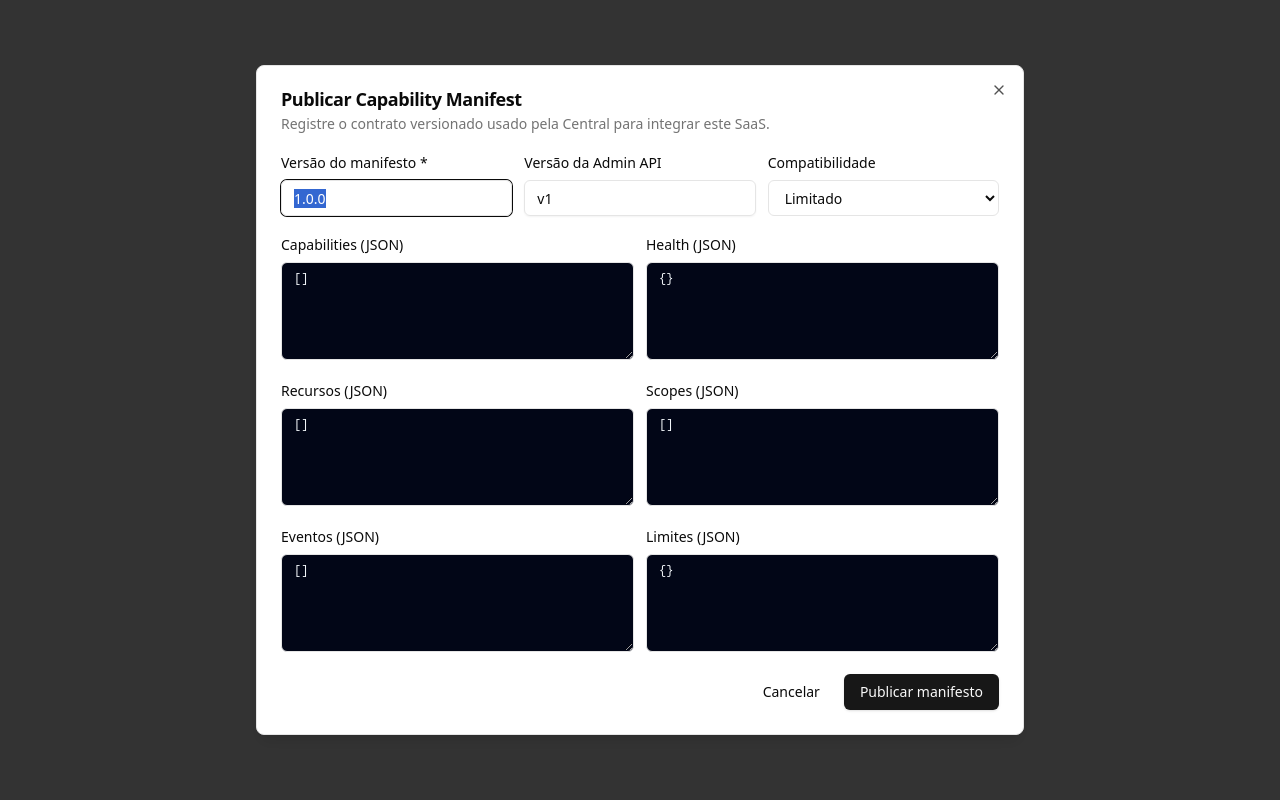
Test: EditManifestDialog › does not submit invalid JSON
This screenshot has width=1280, height=800.
Replace the text in the text box labelled "Capabilities (JSON)" with "[invalid" at point(458, 311), box x1=281 y1=262 x2=634 y2=360
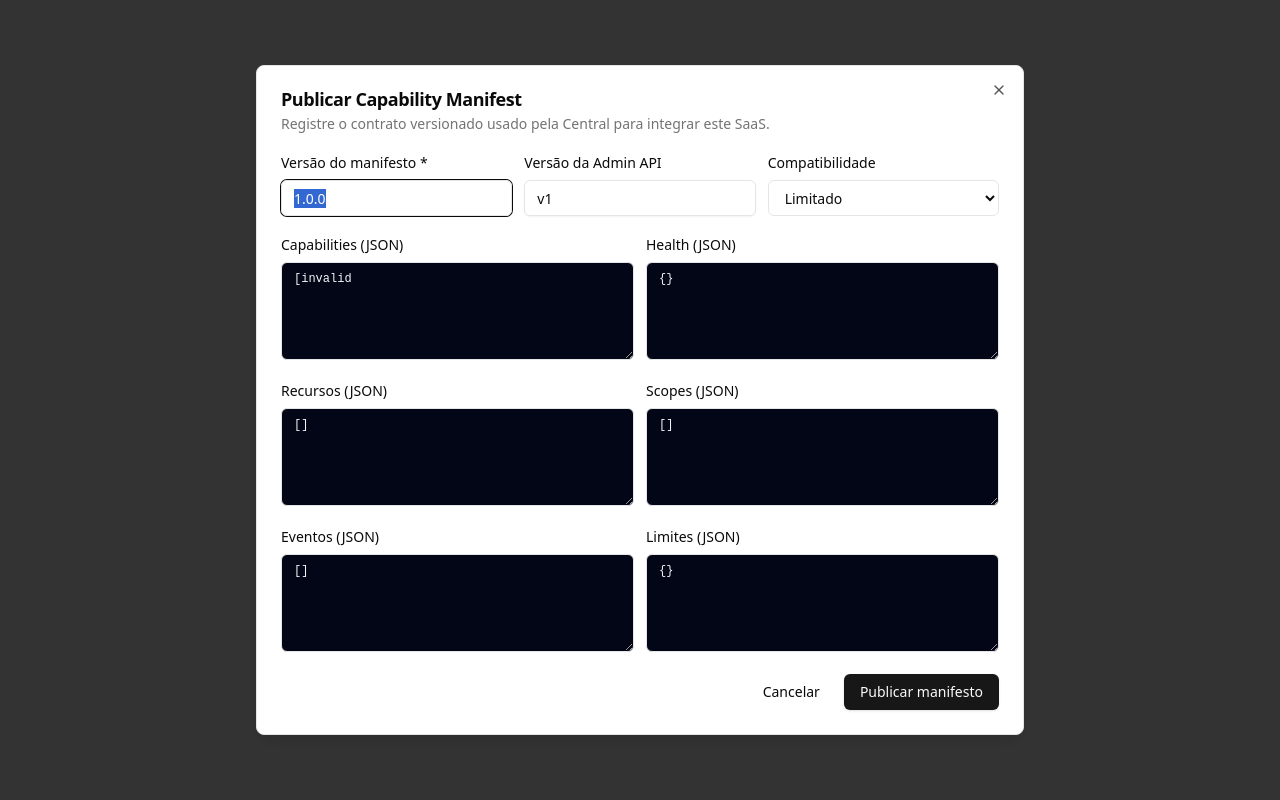
Click the button "Publicar manifesto" at point(921, 692), box x1=844 y1=674 x2=999 y2=710
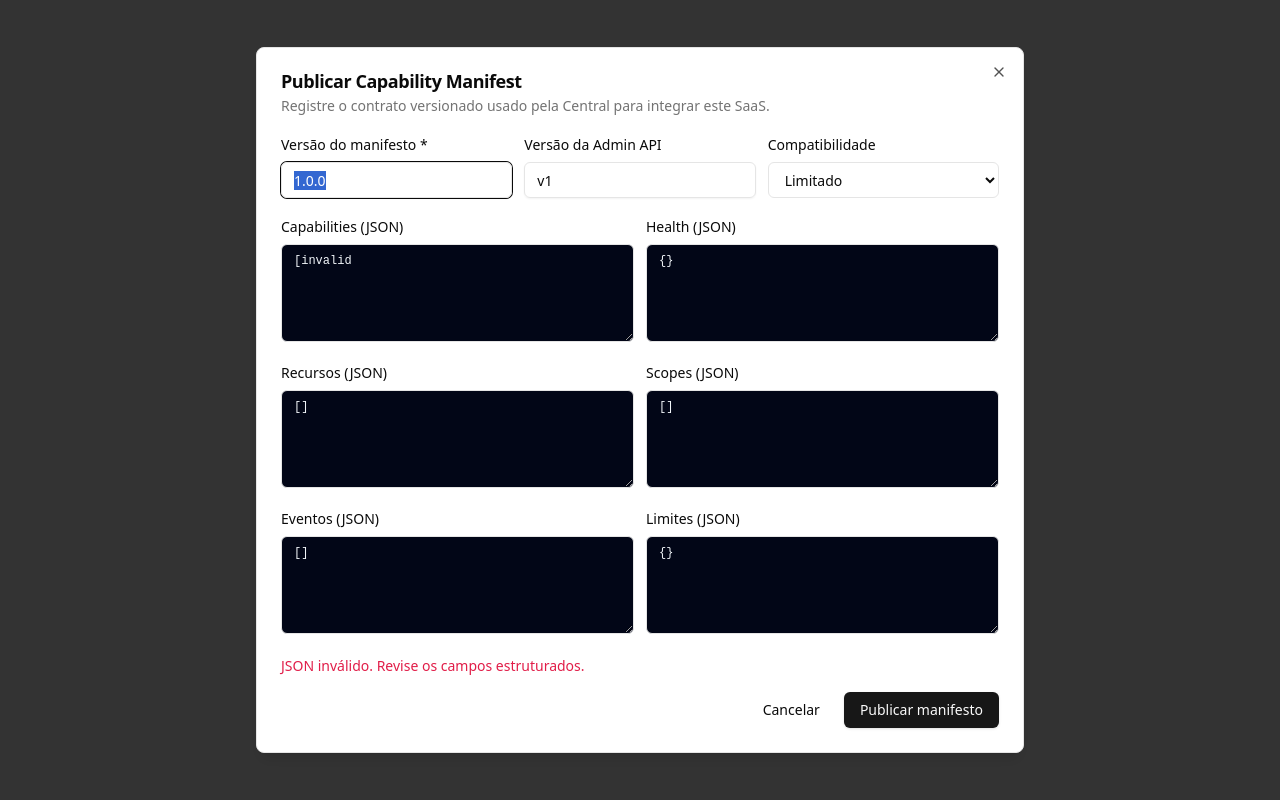
Check: the message shows "JSON inválido", box x1=281 y1=656 x2=584 y2=675
